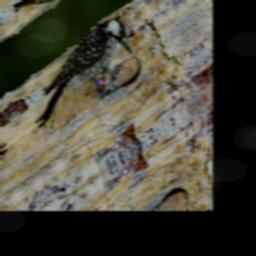Woodpecker: (20, 8, 140, 140)
